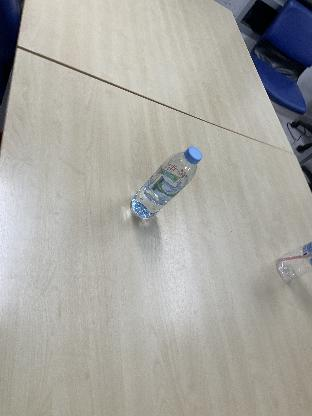Plastic Bottle: (130, 144, 202, 226), (278, 240, 312, 286)
